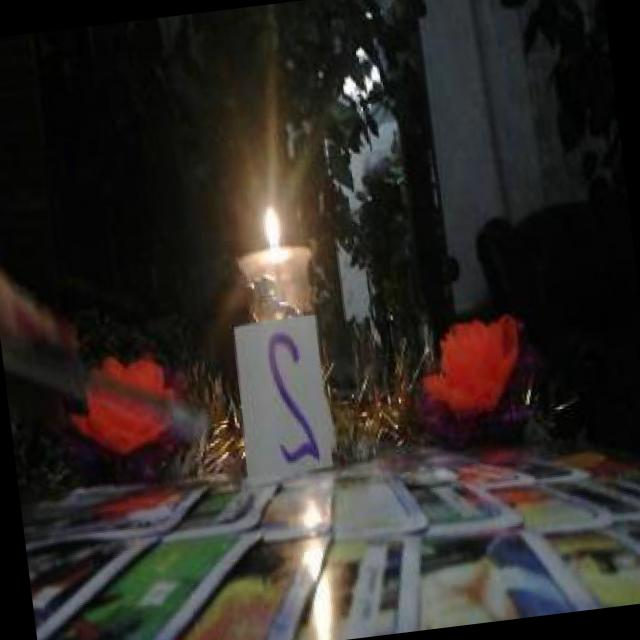fire: (255, 192, 288, 255)
